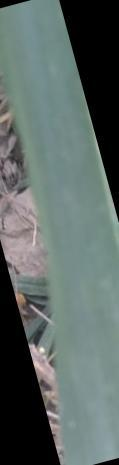Wheat: (59, 270, 119, 455), (42, 155, 98, 240), (19, 87, 80, 146), (2, 21, 61, 78)
